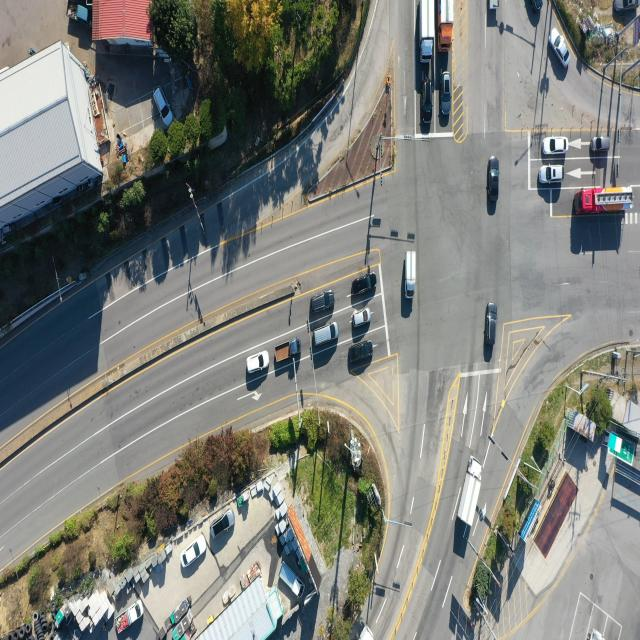car: (549, 28, 572, 70), (178, 539, 206, 570), (152, 85, 172, 126), (486, 303, 498, 364), (211, 508, 234, 538), (487, 155, 499, 208), (312, 322, 338, 346), (348, 340, 374, 364), (312, 291, 338, 314), (351, 273, 375, 297), (247, 351, 270, 374), (421, 80, 433, 124), (543, 136, 568, 156), (538, 166, 564, 185), (443, 73, 453, 118), (352, 309, 371, 328), (591, 137, 611, 153), (616, 0, 638, 13), (531, 0, 543, 12)
medium_truck: (459, 456, 485, 528), (576, 191, 634, 213), (420, 0, 437, 61), (436, 0, 454, 50)
small_truck: (114, 599, 144, 633), (279, 562, 304, 598), (274, 339, 301, 363), (405, 251, 418, 300), (66, 2, 90, 23), (360, 622, 374, 640), (489, 0, 499, 9)
